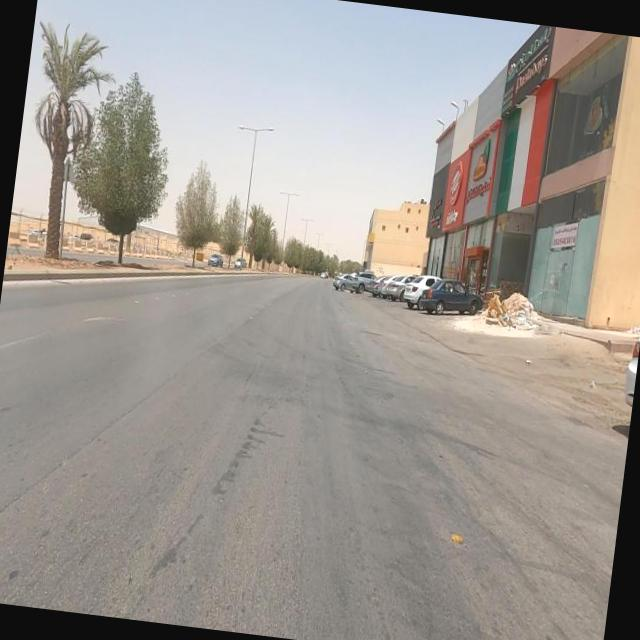debris: (458, 272, 534, 362)
